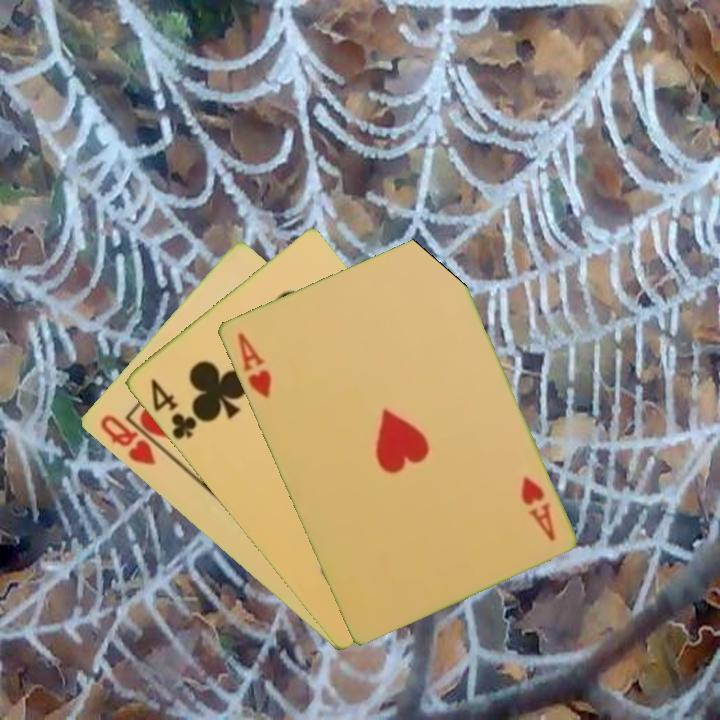4c: (146, 375, 200, 443)
Ah: (233, 328, 274, 401), (516, 473, 558, 544)
Qh: (96, 411, 158, 469)
